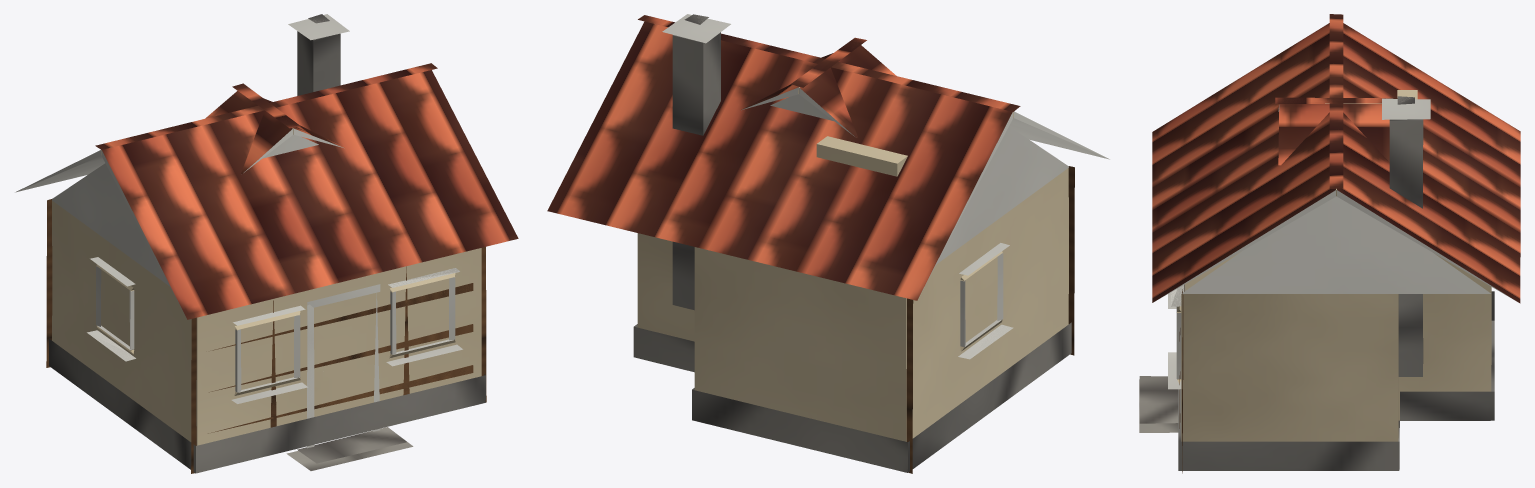
The model's file is Env_House_Cottage_A_LOD2.fbx.
The picture shows the model from 3 angles, left to right: view 1: azimuth 30°, elevation 25°; view 2: azimuth 150°, elevation 25°; view 3: azimuth 270°, elevation 25°; orthographic projection. The views are drawn at different scales.
Parts seen in each view (by area): view 1: Env_House_Cottage_A_LOD2; view 2: Env_House_Cottage_A_LOD2; view 3: Env_House_Cottage_A_LOD2.
Part boxes in pixels (x1,y1,x2,y2): Env_House_Cottage_A_LOD2: [15, 14, 518, 473]; Env_House_Cottage_A_LOD2: [547, 14, 1109, 473]; Env_House_Cottage_A_LOD2: [1139, 14, 1520, 473].
Size of the model in its own units: 532 by 491 by 496.
